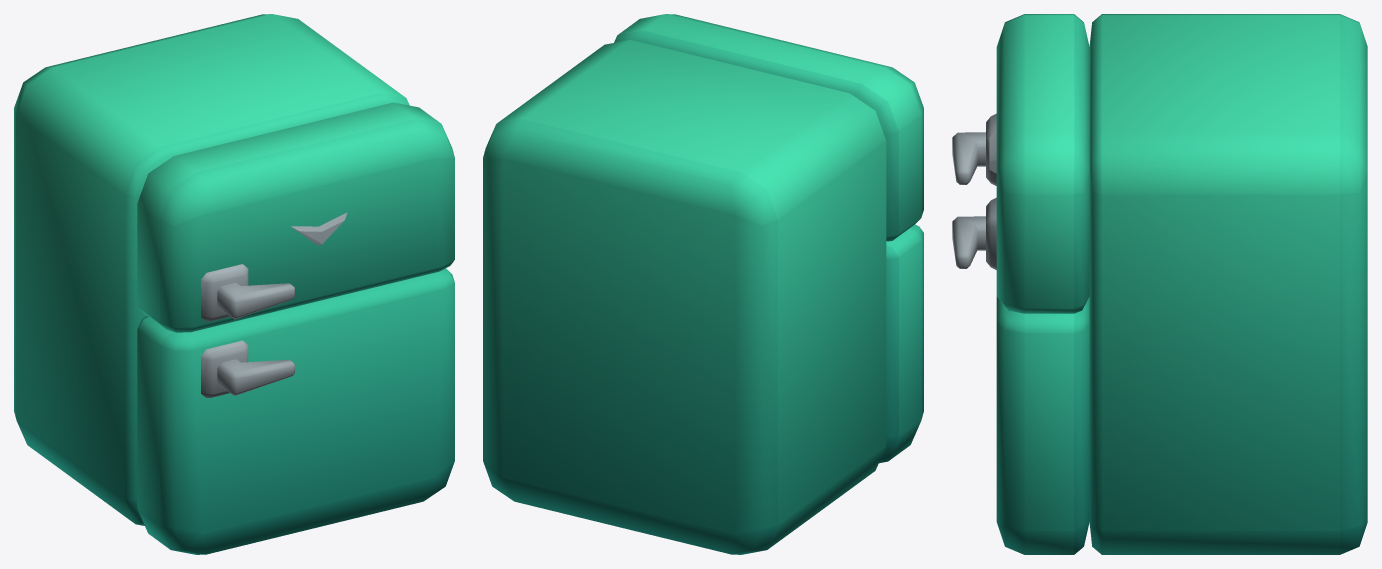
Rendered from kr_fridge.glb.
3 views of the same model, side by side, from view 1: azimuth 30°, elevation 25°; view 2: azimuth 150°, elevation 25°; view 3: azimuth 270°, elevation 25° (orthographic). The views are drawn at different scales.
Parts seen in each view (by area): view 1: fridge_A; view 2: fridge_A; view 3: fridge_A.
Part boxes in pixels (x1,y1,x2,y2): fridge_A: [14, 14, 454, 554]; fridge_A: [483, 14, 923, 554]; fridge_A: [952, 14, 1367, 554].
Bounding box in the file's own units: 2 × 2.5 × 2.24.
1 material, 1 textured.
